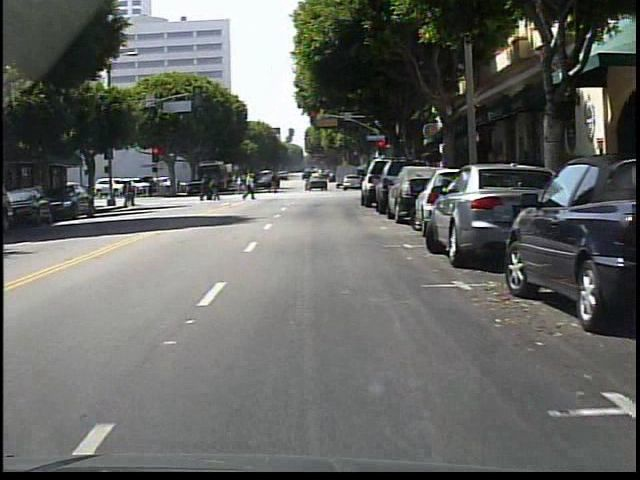person: (237, 170, 258, 202)
